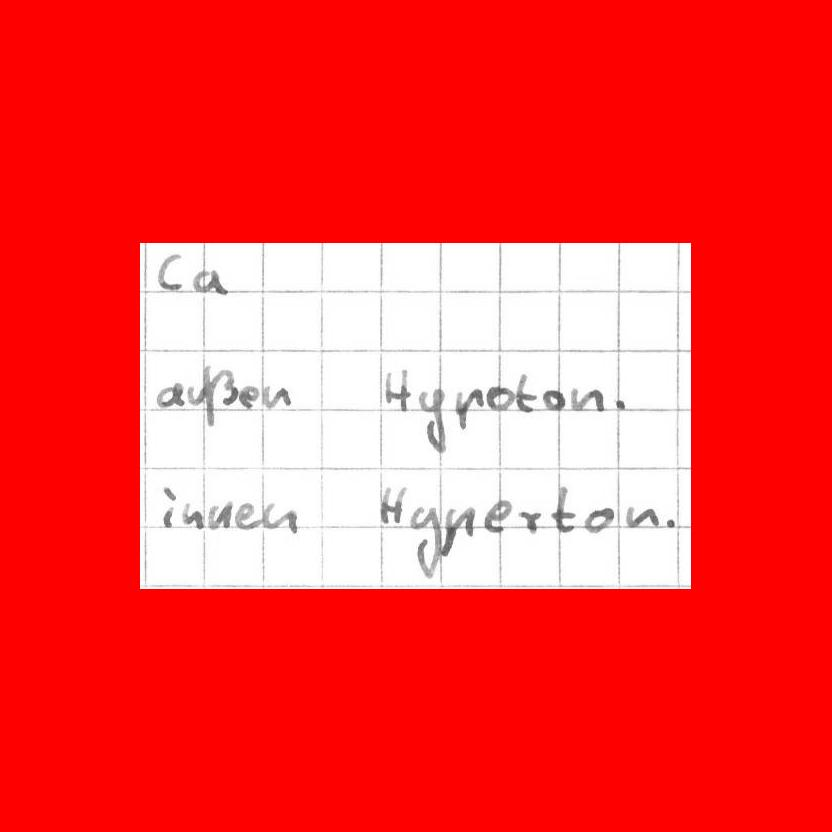Char: (406, 504, 444, 582), (201, 363, 238, 428), (418, 384, 450, 456), (437, 506, 474, 563), (549, 484, 578, 534), (453, 385, 483, 431), (262, 501, 297, 535), (378, 482, 405, 525), (191, 265, 228, 296), (383, 367, 409, 411), (158, 252, 184, 295), (482, 498, 513, 533), (570, 383, 604, 412), (582, 504, 613, 534), (515, 372, 537, 413), (156, 379, 185, 409), (263, 382, 291, 410), (160, 484, 177, 530), (627, 504, 658, 529), (486, 383, 511, 411), (208, 500, 232, 529), (518, 506, 543, 533), (235, 501, 258, 530), (181, 503, 204, 531), (542, 388, 566, 414), (238, 383, 259, 410), (186, 382, 206, 406), (612, 394, 630, 412), (664, 513, 678, 531)
